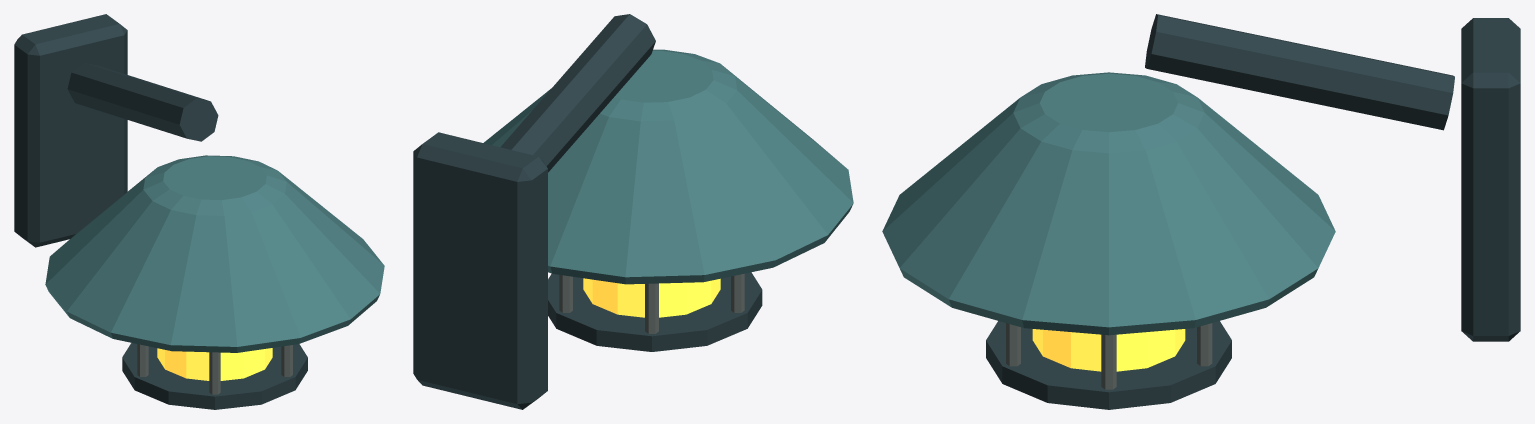
File: wall-lamp.glb
3 views of the same model, side by side, from view 1: azimuth 30°, elevation 25°; view 2: azimuth 150°, elevation 25°; view 3: azimuth 270°, elevation 25° (orthographic). The views are drawn at different scales.
Visible parts, largest first — view 1: wall-lamp__wall-lamp__petrol, wall-lamp__wall-lamp__steel, wall-lamp__wall-lamp__signal-amber, wall-lamp__wall-lamp__hardware; view 2: wall-lamp__wall-lamp__petrol, wall-lamp__wall-lamp__steel, wall-lamp__wall-lamp__signal-amber, wall-lamp__wall-lamp__hardware; view 3: wall-lamp__wall-lamp__petrol, wall-lamp__wall-lamp__steel, wall-lamp__wall-lamp__signal-amber, wall-lamp__wall-lamp__hardware.
Part boxes in pixels (<box>): wall-lamp__wall-lamp__petrol: <box>45,155,384,352</box>; wall-lamp__wall-lamp__steel: <box>14,14,307,409</box>; wall-lamp__wall-lamp__signal-amber: <box>157,348,272,380</box>; wall-lamp__wall-lamp__hardware: <box>137,344,292,394</box>; wall-lamp__wall-lamp__petrol: <box>483,49,853,284</box>; wall-lamp__wall-lamp__steel: <box>413,14,762,409</box>; wall-lamp__wall-lamp__signal-amber: <box>583,278,720,317</box>; wall-lamp__wall-lamp__hardware: <box>559,273,744,333</box>; wall-lamp__wall-lamp__petrol: <box>882,72,1335,335</box>; wall-lamp__wall-lamp__steel: <box>986,14,1520,409</box>; wall-lamp__wall-lamp__signal-amber: <box>1032,329,1185,371</box>; wall-lamp__wall-lamp__hardware: <box>1006,323,1212,389</box>.
Size of the model in its own units: 0.5343 by 0.4456 by 0.7521.
